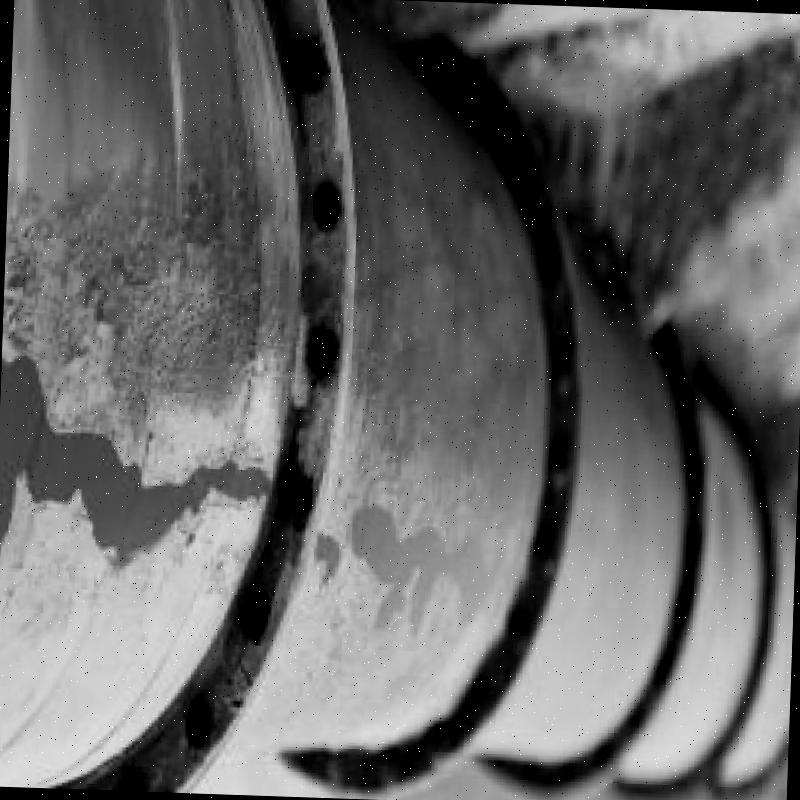corrosion: (54, 38, 375, 413)
